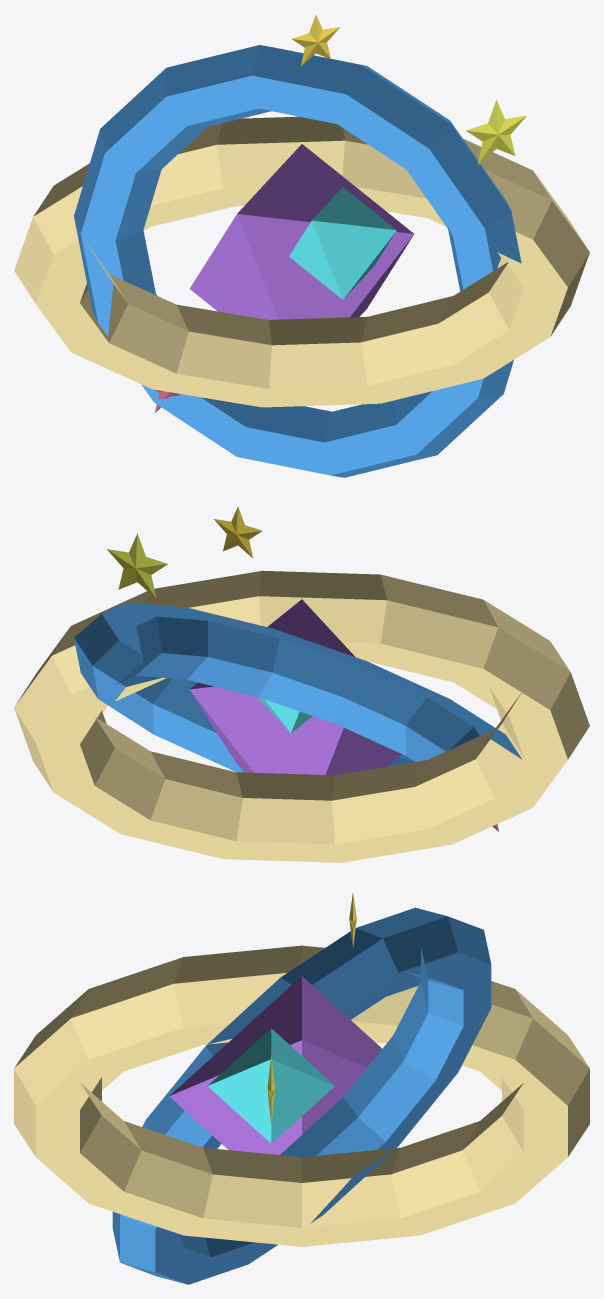
File: minglora_galaxy.gltf
The picture shows the model from 3 angles, top to bottom: view 1: azimuth 30°, elevation 25°; view 2: azimuth 150°, elevation 25°; view 3: azimuth 270°, elevation 25°; orthographic projection. The views are drawn at different scales.
Parts seen in each view (by area): view 1: minglora_galaxy2, minglora_galaxy3, minglora_galaxy0, minglora_galaxy1, minglora_galaxy4, minglora_galaxy6; view 2: minglora_galaxy2, minglora_galaxy3, minglora_galaxy0, minglora_galaxy4, minglora_galaxy6, minglora_galaxy1; view 3: minglora_galaxy2, minglora_galaxy3, minglora_galaxy0, minglora_galaxy1.
Part boxes in pixels (left/top/right/bottom): minglora_galaxy2: left=14, top=116, right=589, bottom=407; minglora_galaxy3: left=74, top=45, right=521, bottom=477; minglora_galaxy0: left=189, top=144, right=413, bottom=319; minglora_galaxy1: left=289, top=187, right=396, bottom=299; minglora_galaxy4: left=466, top=100, right=526, bottom=165; minglora_galaxy6: left=291, top=14, right=339, bottom=66; minglora_galaxy2: left=14, top=570, right=589, bottom=862; minglora_galaxy3: left=74, top=602, right=522, bottom=772; minglora_galaxy0: left=189, top=599, right=401, bottom=775; minglora_galaxy4: left=107, top=533, right=167, bottom=598; minglora_galaxy6: left=214, top=506, right=262, bottom=558; minglora_galaxy1: left=258, top=697, right=312, bottom=732; minglora_galaxy2: left=14, top=945, right=589, bottom=1246; minglora_galaxy3: left=112, top=907, right=491, bottom=1284; minglora_galaxy0: left=169, top=976, right=381, bottom=1154; minglora_galaxy1: left=208, top=1028, right=334, bottom=1143.
Size of the model in its own units: 2.31 by 1.64 by 2.25.
